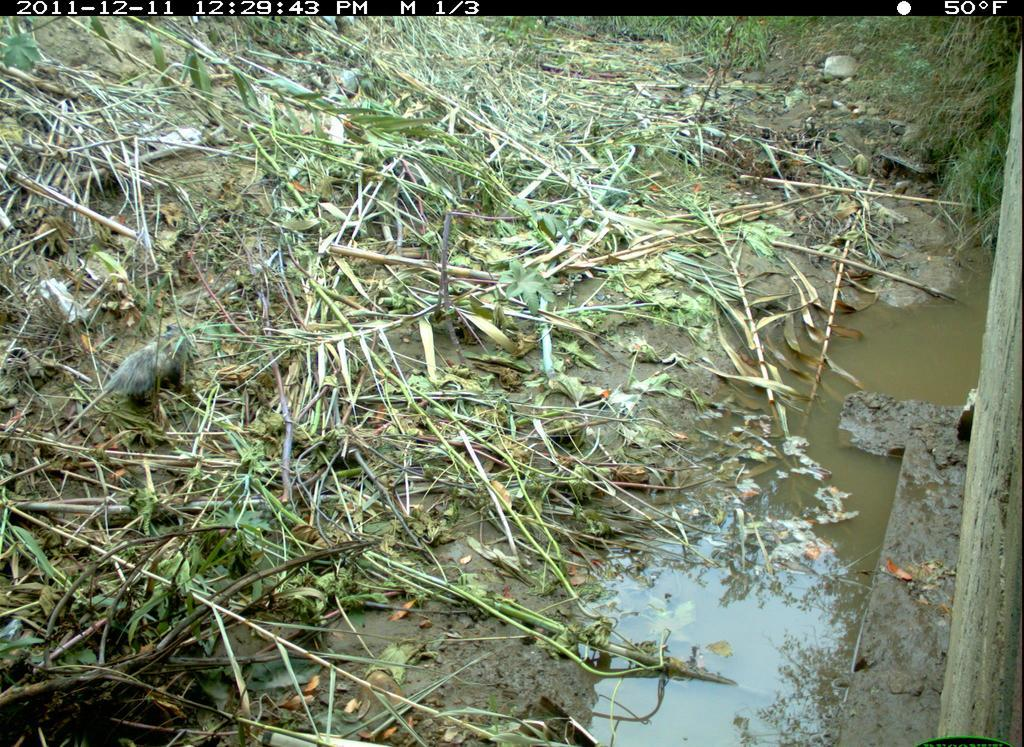opossum: (44, 318, 201, 456)
